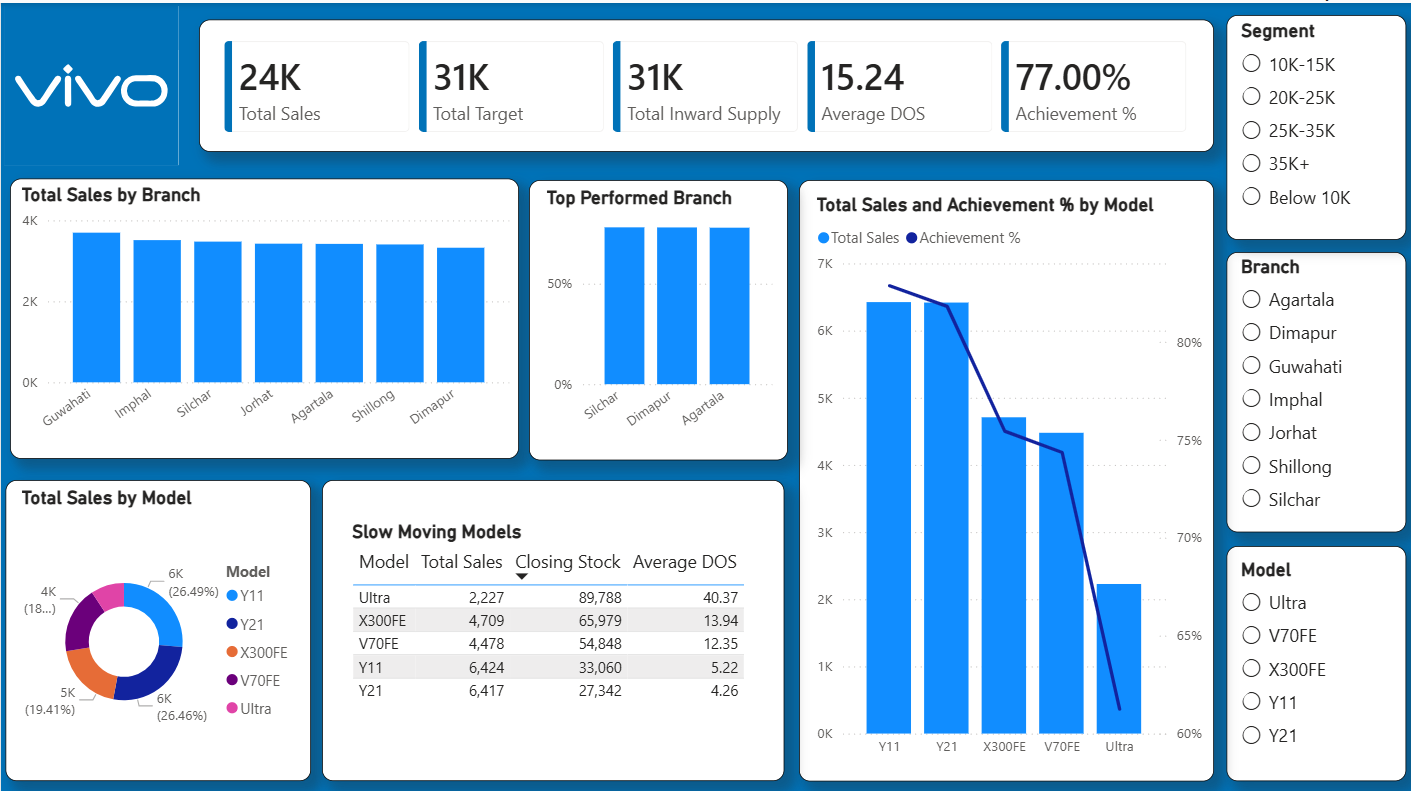

The page's visual inventory and layout, read from the dashboard file:
{"tool":"powerbi","page":{"name":"Page 1","canvas":[1280,720],"ordinal":0},"visuals":[{"type":"image","box":[3.3,2.7,157.3,143.3],"z":0},{"type":"shape","box":[1103.9,224.1,162,252.9],"z":1000},{"type":"shape","box":[1103.9,489.1,162,212],"z":2000},{"type":"listSlicer","fields":{"Values":["Cleaned Dataset&MIS.Branch"]},"box":[1112.9,227.1,145.4,245.3],"z":3000},{"type":"listSlicer","fields":{"Values":["Cleaned Dataset&MIS.Model"]},"box":[1112.9,499.7,145.4,195.3],"z":4000},{"type":"shape","box":[178.7,15.1,914.6,119.6],"z":5000},{"type":"cardVisual","fields":{"Data":["Cleaned Dataset&MIS.Total Sales","Cleaned Dataset&MIS.Total Target","Cleaned Dataset&MIS.Total Inward Supply","Cleaned Dataset&MIS.Average DOS","Cleaned Dataset&MIS.Achievement %"]},"box":[184.7,19.7,902.5,110.5],"z":6000},{"type":"shape","box":[7.6,157.5,458.8,252.9],"z":7000},{"type":"clusteredColumnChart","fields":{"Category":["Cleaned Dataset&MIS.Branch"],"Y":["Cleaned Dataset&MIS.Total Sales"]},"box":[13.6,162,449.7,242.3],"z":8000},{"type":"shape","box":[719.2,159,374,542.1],"z":9000},{"type":"shape","box":[4.5,430,275.6,271],"z":10000},{"type":"donutChart","fields":{"Y":["Cleaned Dataset&MIS.Total Sales"],"Category":["Cleaned Dataset&MIS.Model"]},"box":[13.6,434.6,258.9,260.4],"z":11000},{"type":"lineStackedColumnComboChart","fields":{"Category":["Cleaned Dataset&MIS.Model"],"Y":["Cleaned Dataset&MIS.Total Sales"],"Y2":["Cleaned Dataset&MIS.Achievement %"]},"box":[729.8,171.1,357.4,516.3],"z":12000},{"type":"shape","box":[475.5,159,233.2,252.9],"z":13000},{"type":"clusteredColumnChart","title":"Top Performed Branch","fields":{"Category":["Cleaned Dataset&MIS.Branch"],"Y":["Cleaned Dataset&MIS.Achievement %"]},"box":[486.1,165,213.5,239.2],"z":14000},{"type":"shape","box":[289.2,430,416.4,271],"z":15000},{"type":"tableEx","title":"Slow Moving Models","fields":{"Values":["Cleaned Dataset&MIS.Model","Cleaned Dataset&MIS.Total Sales","Sum(Cleaned Dataset&MIS.Closing Stock)","Cleaned Dataset&MIS.Average DOS"]},"box":[296.8,466.4,402.8,198.4],"z":16000},{"type":"shape","box":[1103.9,10.6,162,202.9],"z":17000},{"type":"listSlicer","fields":{"Values":["Cleaned Dataset&MIS.Segment"]},"box":[1112.9,15.1,145.4,192.3],"z":18000}]}

Visuals, with their boxes in screenshot pixels (x1, y1, x2, y2), scaled from the page's 1280x720 canvas onto the 1411x791 screenshot:
image: rect(4, 3, 177, 160)
shape: rect(1217, 246, 1395, 524)
shape: rect(1217, 537, 1395, 770)
listSlicer - Cleaned Dataset&MIS.Branch: rect(1227, 249, 1387, 519)
listSlicer - Cleaned Dataset&MIS.Model: rect(1227, 549, 1387, 764)
shape: rect(197, 17, 1205, 148)
cardVisual - Cleaned Dataset&MIS.Total Sales x Cleaned Dataset&MIS.Total Target: rect(204, 22, 1198, 143)
shape: rect(8, 173, 514, 451)
clusteredColumnChart - Cleaned Dataset&MIS.Branch x Cleaned Dataset&MIS.Total Sales: rect(15, 178, 511, 444)
shape: rect(793, 175, 1205, 770)
shape: rect(5, 472, 309, 770)
donutChart - Cleaned Dataset&MIS.Total Sales x Cleaned Dataset&MIS.Model: rect(15, 477, 300, 764)
lineStackedColumnComboChart - Cleaned Dataset&MIS.Model x Cleaned Dataset&MIS.Total Sales: rect(804, 188, 1198, 755)
shape: rect(524, 175, 781, 453)
"Top Performed Branch" clusteredColumnChart: rect(536, 181, 771, 444)
shape: rect(319, 472, 778, 770)
"Slow Moving Models" tableEx: rect(327, 512, 771, 730)
shape: rect(1217, 12, 1395, 235)
listSlicer - Cleaned Dataset&MIS.Segment: rect(1227, 17, 1387, 228)
